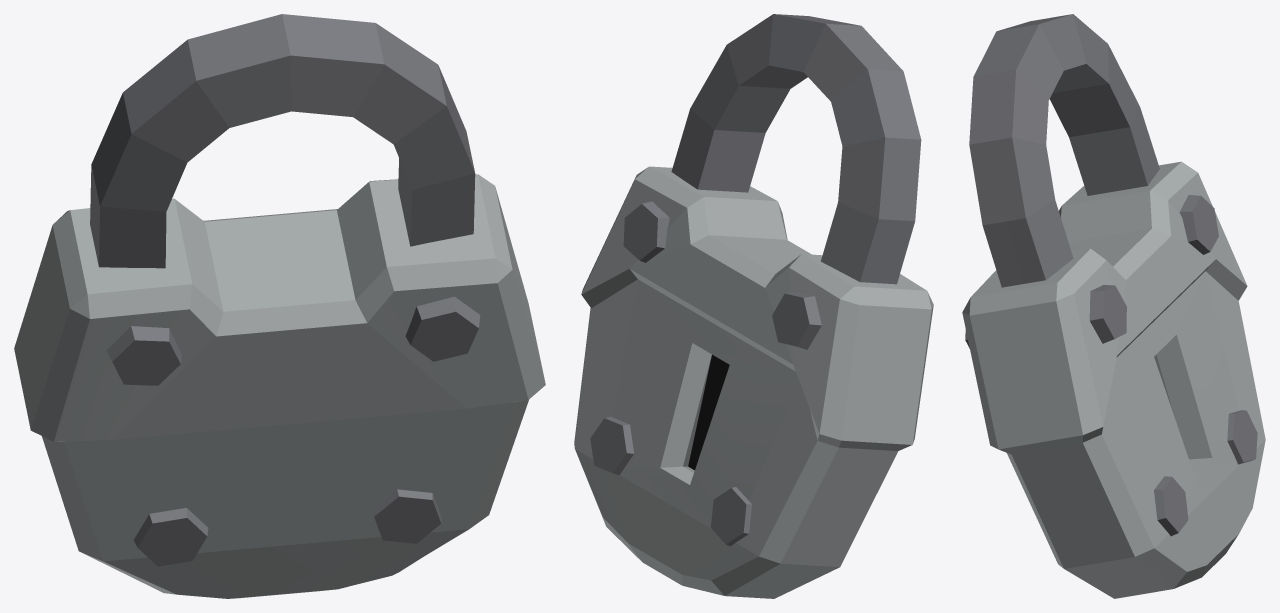
The model's file is trinketPadlock1.fbx.
The picture shows the model from 3 angles, left to right: view 1: azimuth 30°, elevation 25°; view 2: azimuth 150°, elevation 25°; view 3: azimuth 270°, elevation 25°; orthographic projection. The views are drawn at different scales.
Parts seen in each view (by area): view 1: trinketPadlock1; view 2: trinketPadlock1; view 3: trinketPadlock1.
Boxes of the visible parts, bbox=[...] form: trinketPadlock1: bbox=[14, 14, 545, 598]; trinketPadlock1: bbox=[574, 14, 933, 598]; trinketPadlock1: bbox=[962, 14, 1265, 598].
Bounding box in the file's own units: 1.31 × 1.79 × 0.9389.
